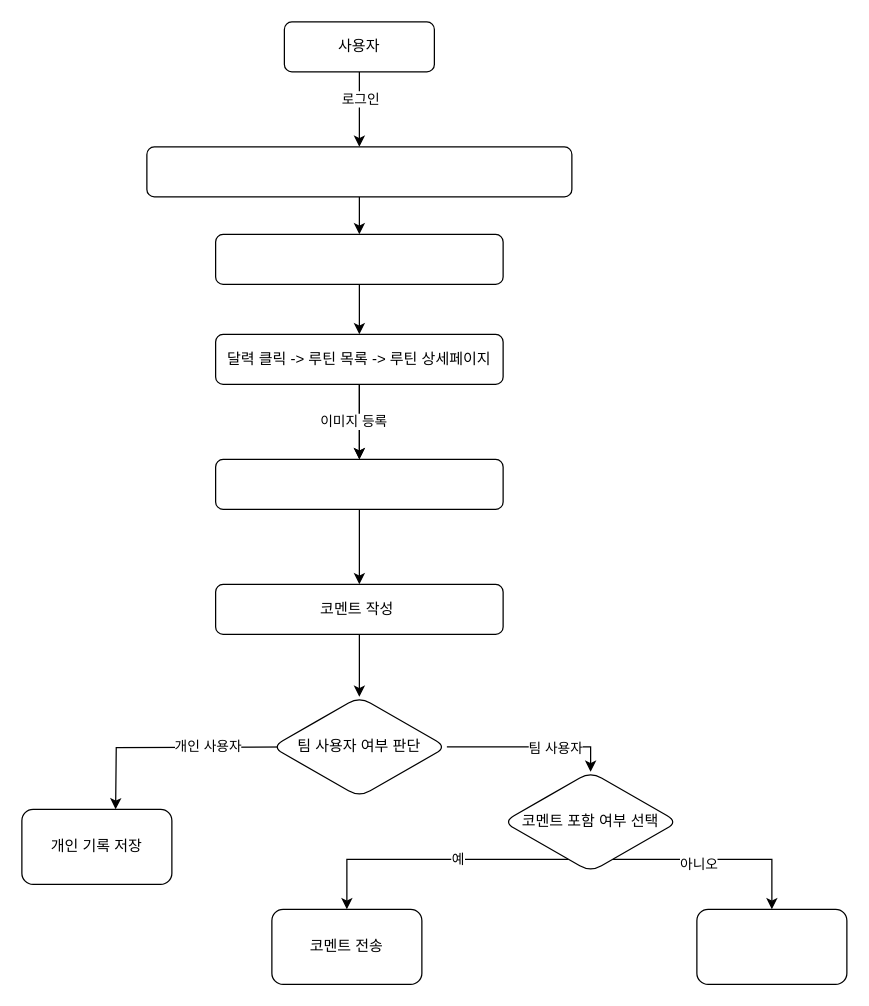
Image size: 869x1006. Some labels were removed from this diagram. Each missing label, with the centre of its shape:
루틴 등록 (카테고리/제목/내용 입력): the point at 358,258
루틴 완료: the point at 358,483
메인페이지 (일간 주간 루틴 완료률 차트/ 달력/ 주간 루틴 ): the point at 359,171
완료 여부만 전송: the point at 771,946
